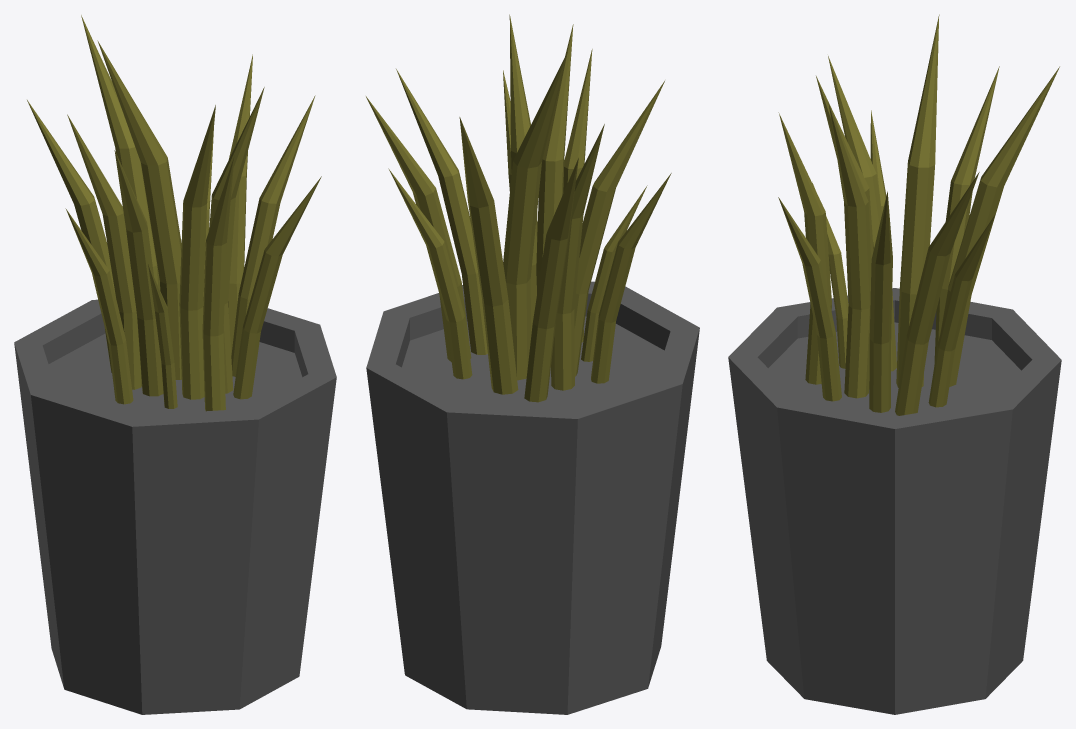
Rendered from Flower_36.fbx.
3 views of the same model, side by side, from view 1: azimuth 30°, elevation 25°; view 2: azimuth 150°, elevation 25°; view 3: azimuth 270°, elevation 25° (orthographic). The views are drawn at different scales.
Visible parts, largest first — view 1: Flower_36; view 2: Flower_36; view 3: Flower_36.
Part boxes in pixels (bbox=[...]): Flower_36: bbox=[14, 15, 336, 714]; Flower_36: bbox=[366, 14, 699, 714]; Flower_36: bbox=[728, 14, 1061, 714].
Bounding box in the file's own units: 22.5 × 22.5 × 46.1.
